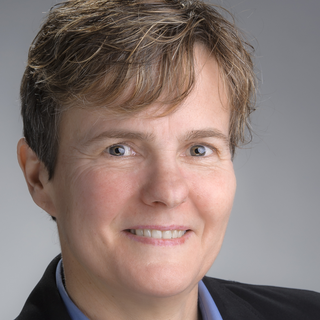eye: (96, 136, 147, 164), (176, 139, 221, 163)
